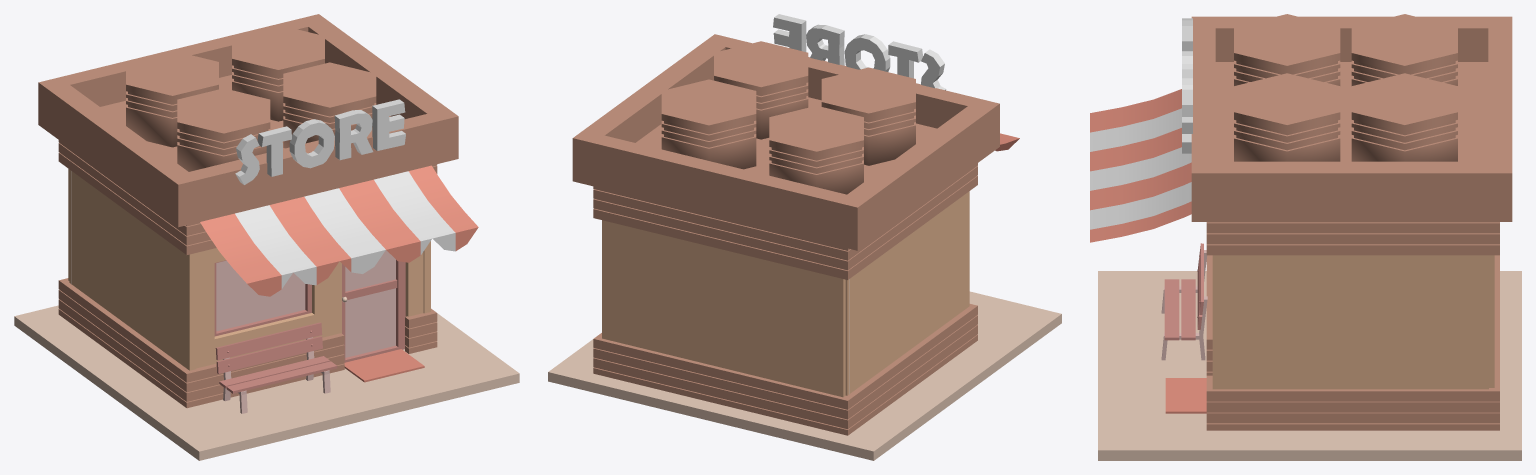
The model's file is Store.fbx.
3 views of the same model, side by side, from view 1: azimuth 30°, elevation 25°; view 2: azimuth 150°, elevation 25°; view 3: azimuth 270°, elevation 25° (orthographic). The views are drawn at different scales.
Visible parts, largest first — view 1: st_5, st_1, polySurface117, polySurface114, polySurface98, polySurface109, polySurface110, polySurface101, polySurface111, polySurface116, window, polySurface87 (+17 smaller); view 2: st_5, polySurface84, st_1, polySurface114, polySurface111, polySurface109, polySurface110, polySurface116, polySurface87, polySurface83, polySurface86, polySurface103 (+9 smaller); view 3: polySurface85, st_5, st_1, polySurface117, polySurface116, polySurface111, polySurface110, polySurface109, polySurface87, polySurface83, polySurface86, polySurface103 (+9 smaller).
Part boxes in pixels (x1,y1,x2,y2): st_5: (38, 14, 458, 227); st_1: (14, 305, 519, 460); polySurface117: (200, 165, 478, 296); polySurface114: (69, 169, 196, 370); polySurface98: (196, 248, 423, 368); polySurface109: (126, 50, 218, 147); polySurface110: (177, 88, 270, 171); polySurface101: (342, 250, 405, 362); polySurface111: (232, 25, 324, 121); polySurface116: (283, 62, 376, 148); window: (214, 260, 311, 336); polySurface87: (58, 278, 437, 382); st_5: (572, 34, 999, 250); polySurface84: (602, 220, 845, 397); st_1: (548, 291, 1061, 460); polySurface114: (845, 191, 969, 395); polySurface111: (661, 79, 756, 169); polySurface109: (769, 105, 863, 194); polySurface110: (821, 67, 915, 165); polySurface116: (714, 41, 808, 139); polySurface87: (593, 304, 977, 409); polySurface83: (593, 315, 977, 419); polySurface86: (593, 325, 977, 429); polySurface103: (593, 166, 977, 270); polySurface85: (1212, 255, 1488, 389); st_5: (1191, 16, 1512, 221); st_1: (1098, 271, 1521, 460); polySurface117: (1090, 89, 1191, 242); polySurface116: (1234, 73, 1340, 161); polySurface111: (1351, 73, 1457, 161); polySurface110: (1234, 14, 1340, 85); polySurface109: (1351, 14, 1457, 85); polySurface87: (1206, 255, 1499, 401); polySurface83: (1206, 349, 1499, 412); polySurface86: (1206, 360, 1499, 423); polySurface103: (1206, 233, 1499, 244).
Size of the model in its own units: 19.26 by 15.72 by 19.61.
